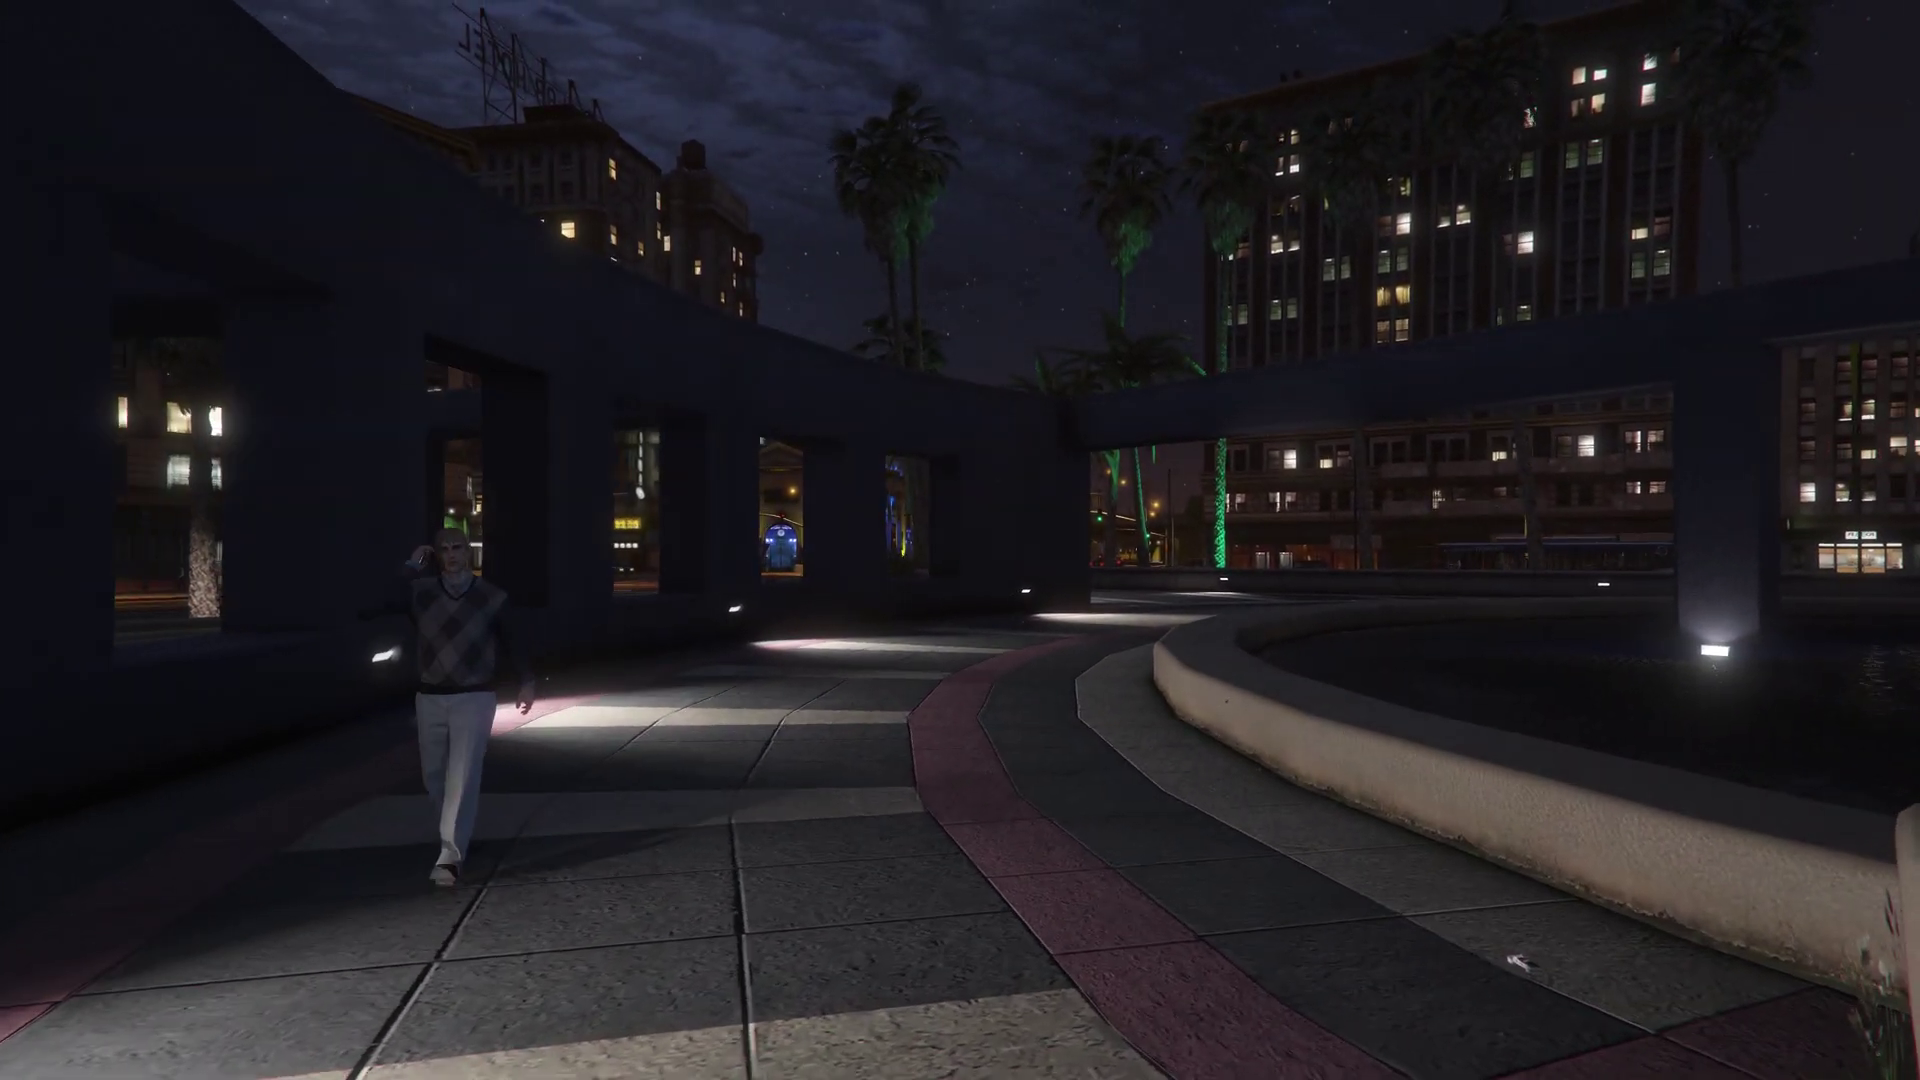person: (360, 527, 538, 889)
